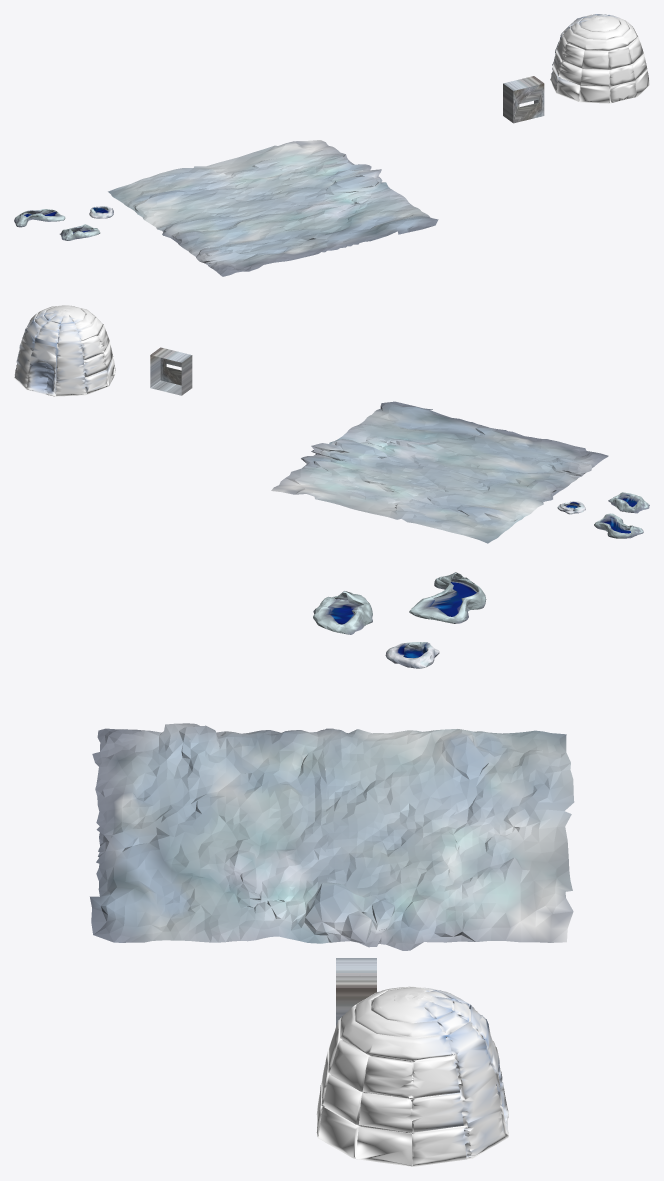
File: acomode los centros.glb
3 renders of one model, top to bottom at view 1: azimuth 30°, elevation 25°; view 2: azimuth 150°, elevation 25°; view 3: azimuth 270°, elevation 25°, orthographic. The views are drawn at different scales.
Parts seen in each view (by area): view 1: Cube, Cylinder.004, Cube.001, Cylinder.001, Cylinder.002; view 2: Cube, Cylinder.004, Cube.001, Cylinder.001, Cylinder.002; view 3: Cube, Cylinder.004, Cylinder.001, Cube.001, Cylinder.002, Cylinder.
Boxes of the visible parts, x1=… form: Cube: x1=108, y1=140, x2=438, y2=276; Cylinder.004: x1=550, y1=14, x2=649, y2=103; Cube.001: x1=503, y1=76, x2=544, y2=123; Cylinder.001: x1=14, y1=209, x2=65, y2=227; Cylinder.002: x1=59, y1=224, x2=100, y2=240; Cube: x1=271, y1=401, x2=608, y2=543; Cylinder.004: x1=14, y1=305, x2=115, y2=396; Cube.001: x1=150, y1=347, x2=192, y2=395; Cylinder.001: x1=594, y1=513, x2=643, y2=538; Cylinder.002: x1=608, y1=492, x2=649, y2=513; Cube: x1=90, y1=723, x2=574, y2=950; Cylinder.004: x1=316, y1=986, x2=508, y2=1166; Cylinder.001: x1=409, y1=572, x2=486, y2=623; Cube.001: x1=336, y1=958, x2=376, y2=1026; Cylinder.002: x1=313, y1=591, x2=372, y2=634; Cylinder: x1=385, y1=642, x2=439, y2=668.
Bounding box in the file's own units: 39.92 × 5.59 × 13.53.
5 materials, 1 textured.
